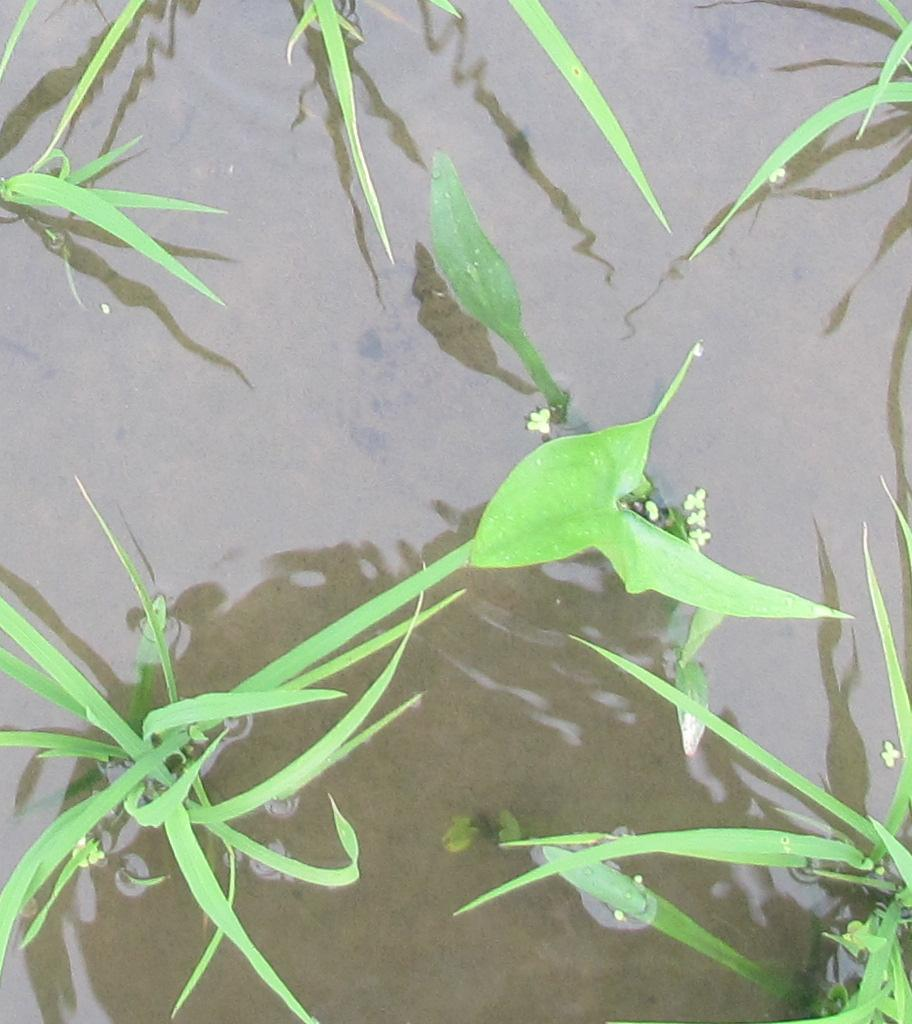Weed: (464, 413, 659, 575)
